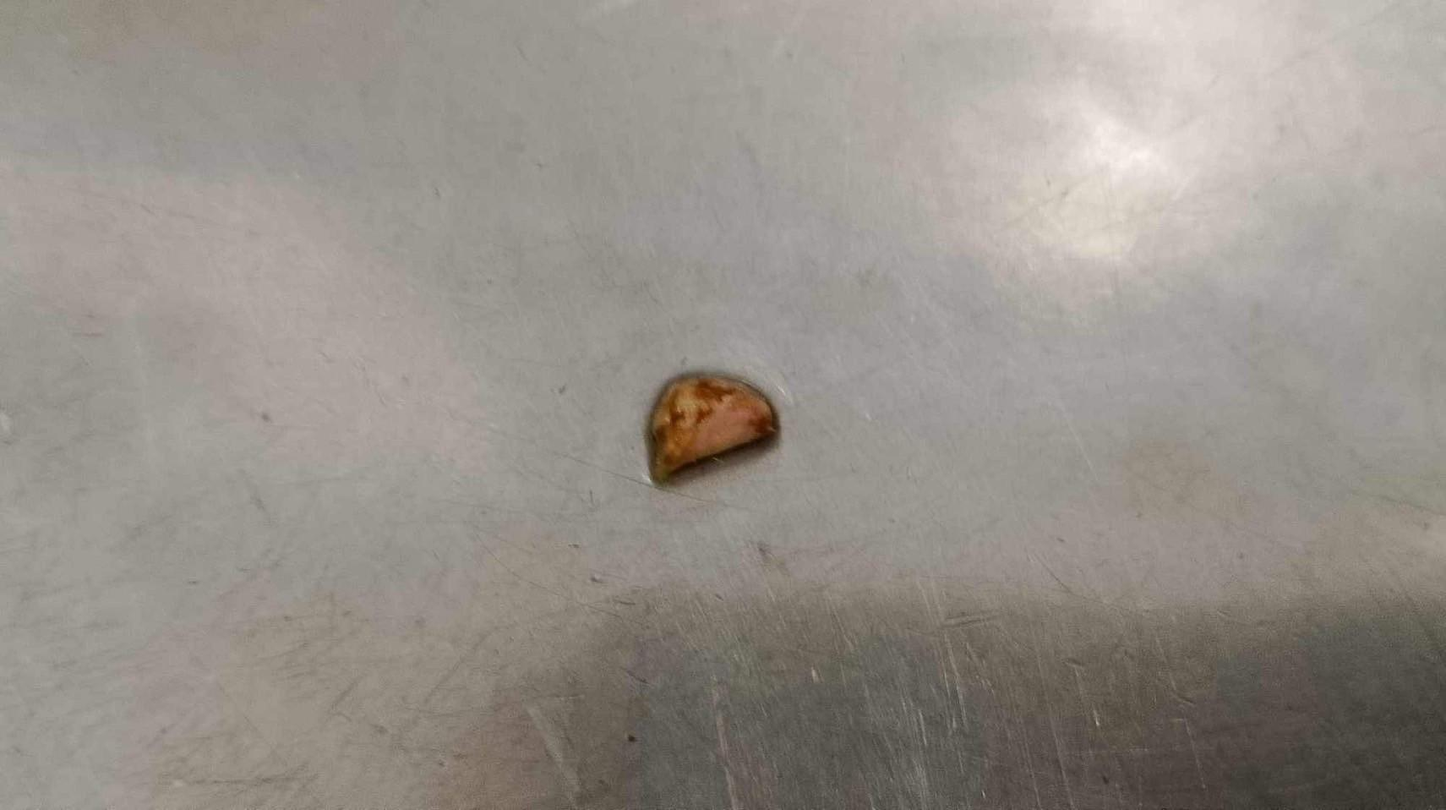Infectious: (645, 372, 778, 484)
